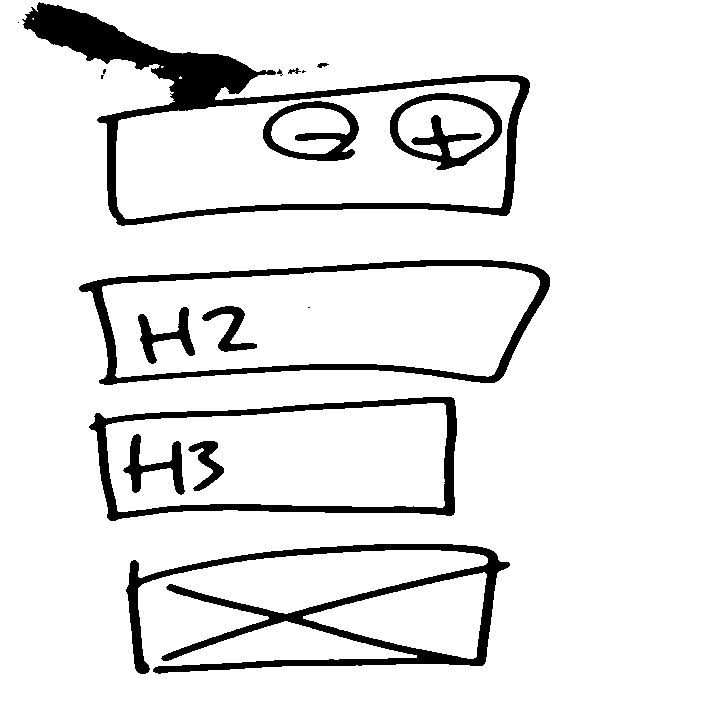heading2: (77, 257, 550, 388)
heading3: (87, 394, 462, 522)
inline stepper bar: (93, 72, 529, 226)
picture: (123, 542, 511, 677)
